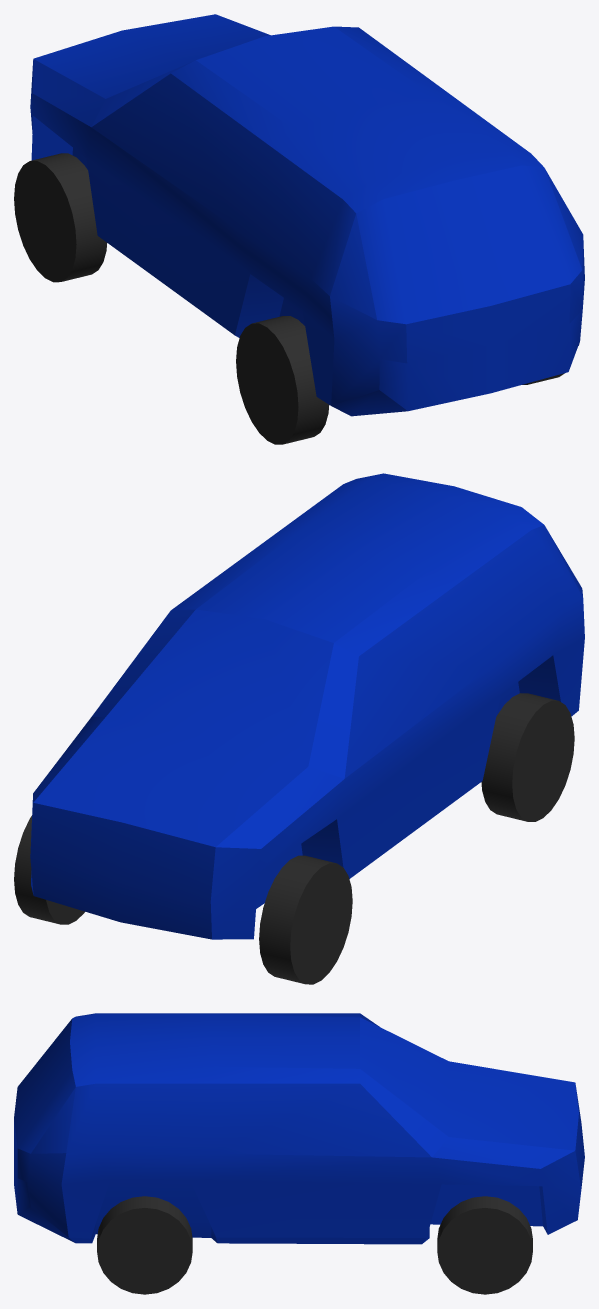
File: 2007_Tahoe_proxy_v001.obj
3 views of the same model, one above another, from view 1: azimuth 30°, elevation 25°; view 2: azimuth 150°, elevation 25°; view 3: azimuth 270°, elevation 25° (orthographic). The views are drawn at different scales.
Parts seen in each view (by area): view 1: Body, Tires; view 2: Body, Tires; view 3: Body, Tires.
Part boxes in pixels (x1=…): Body: x1=30, y1=14, x2=584, y2=416; Tires: x1=14, y1=153, x2=564, y2=444; Body: x1=30, y1=473, x2=584, y2=939; Tires: x1=14, y1=693, x2=574, y2=984; Body: x1=14, y1=1013, x2=584, y2=1244; Tires: x1=97, y1=1196, x2=532, y2=1294.
Bounding box in the file's own units: 2.04 × 1.89 × 4.77.
